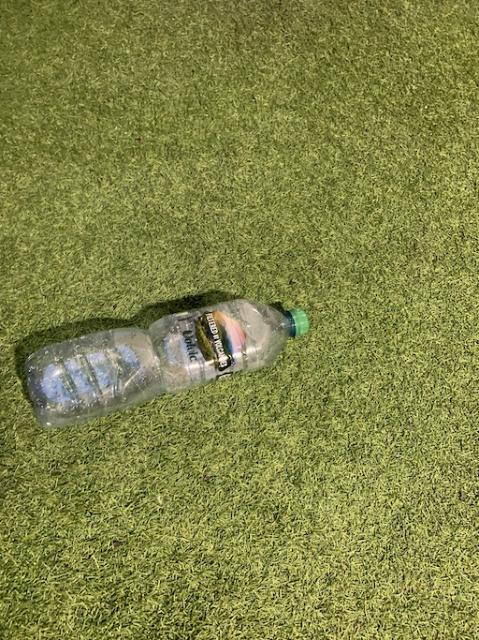plastic: (24, 298, 307, 426)
